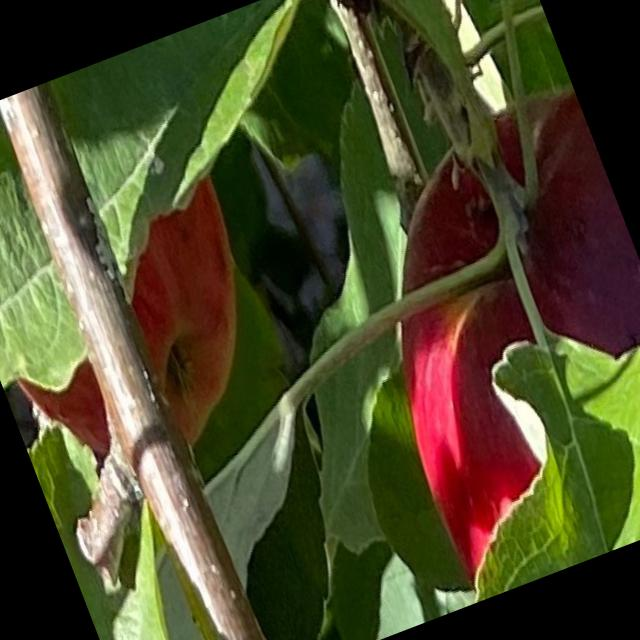Apples: (311, 77, 639, 602), (0, 170, 296, 491)
